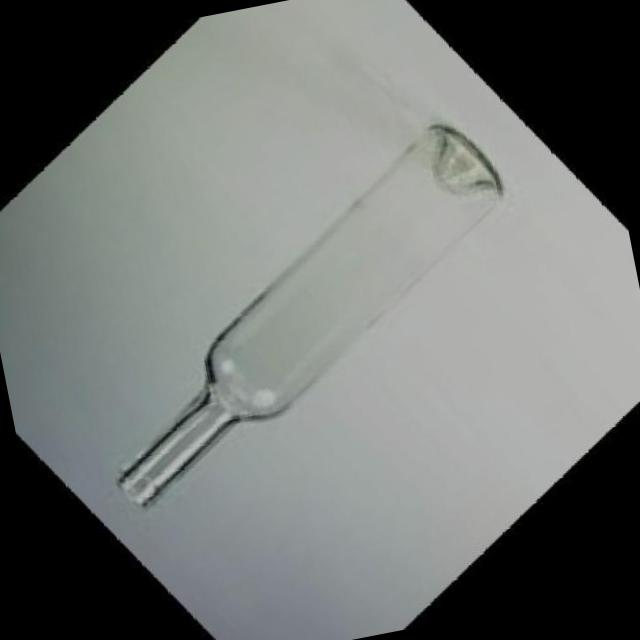BotolKaca: (59, 108, 554, 514)
